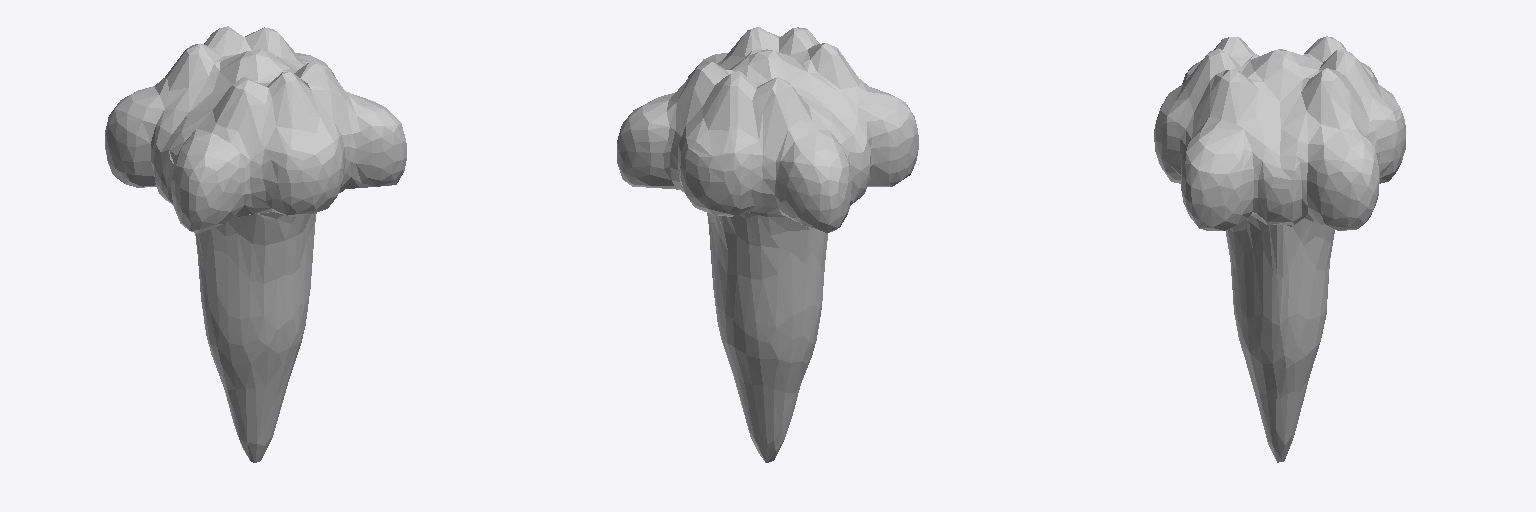
The model's file is Tree.obj.
3 views of the same model, side by side, from view 1: azimuth 30°, elevation 25°; view 2: azimuth 150°, elevation 25°; view 3: azimuth 270°, elevation 25° (orthographic).
Visible parts, largest first — view 1: Tree_Cylinder; view 2: Tree_Cylinder; view 3: Tree_Cylinder.
Boxes of the visible parts, x1=… form: Tree_Cylinder: x1=105, y1=26, x2=406, y2=462; Tree_Cylinder: x1=617, y1=27, x2=918, y2=462; Tree_Cylinder: x1=1154, y1=36, x2=1405, y2=462.
Size of the model in its own units: 5.21 by 9.22 by 5.12.